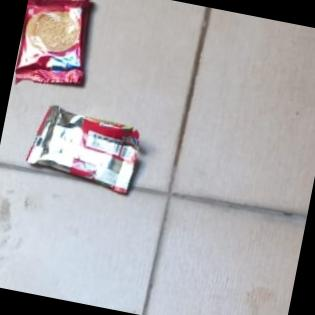Plastik: (22, 101, 146, 196), (12, 0, 100, 95)
